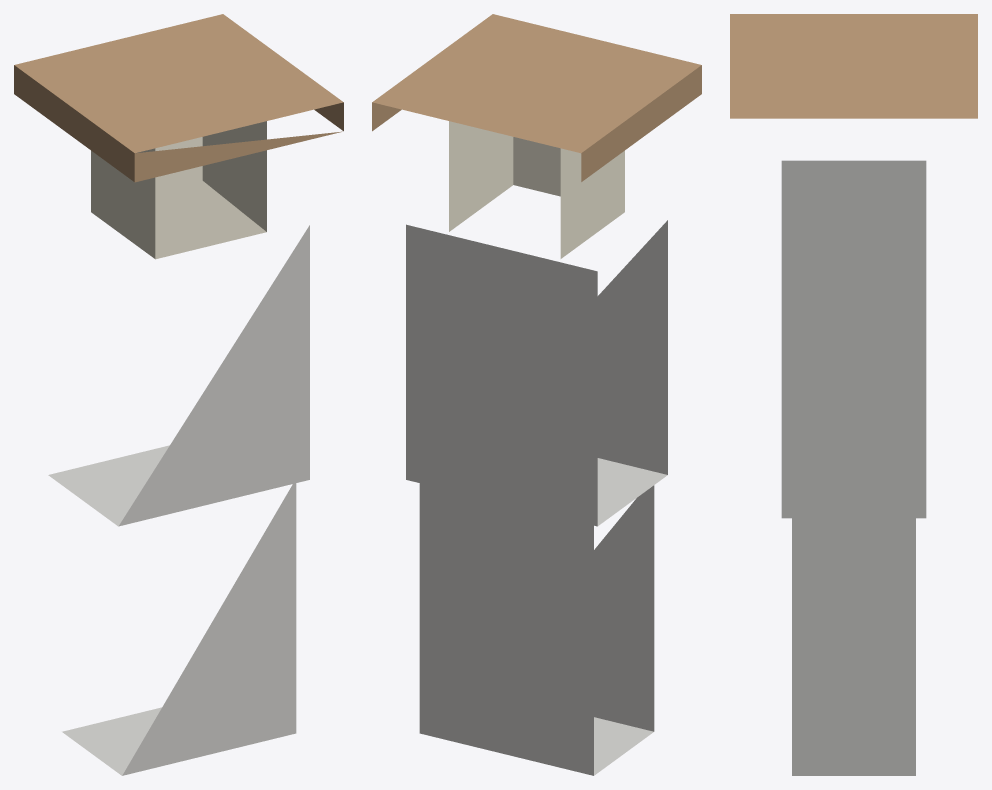
Rendered from ASTX_NPC_VILLAGER.glb.
3 views of the same model, side by side, from view 1: azimuth 30°, elevation 25°; view 2: azimuth 150°, elevation 25°; view 3: azimuth 270°, elevation 25° (orthographic). The views are drawn at different scales.
Visible parts, largest first — view 1: ASTX_NPC_VILLAGER_hat, ASTX_NPC_VILLAGER_torso, ASTX_NPC_VILLAGER_legs, ASTX_NPC_VILLAGER_head; view 2: ASTX_NPC_VILLAGER_torso, ASTX_NPC_VILLAGER_legs, ASTX_NPC_VILLAGER_hat, ASTX_NPC_VILLAGER_head; view 3: ASTX_NPC_VILLAGER_torso, ASTX_NPC_VILLAGER_legs, ASTX_NPC_VILLAGER_hat.
Part boxes in pixels (x1,y1,x2,y2): ASTX_NPC_VILLAGER_hat: (14,14,343,182); ASTX_NPC_VILLAGER_torso: (48,225,309,526); ASTX_NPC_VILLAGER_legs: (62,483,296,775); ASTX_NPC_VILLAGER_head: (91,121,266,259); ASTX_NPC_VILLAGER_torso: (406,220,667,526); ASTX_NPC_VILLAGER_legs: (419,483,654,775); ASTX_NPC_VILLAGER_hat: (372,14,701,181); ASTX_NPC_VILLAGER_head: (449,121,624,258); ASTX_NPC_VILLAGER_torso: (781,160,926,518); ASTX_NPC_VILLAGER_legs: (792,518,915,775); ASTX_NPC_VILLAGER_hat: (730,14,977,118).
Bounding box in the file's own units: 0.6 × 1.78 × 0.6.
